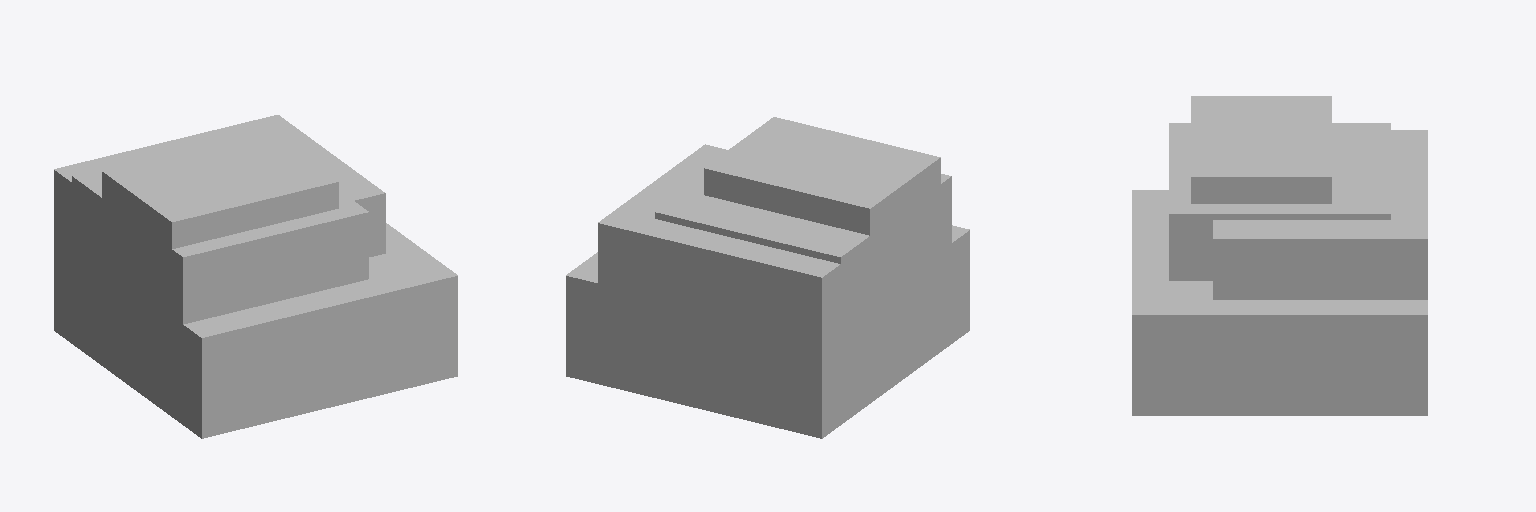
The model's file is Rock02.obj.
3 views of the same model, side by side, from view 1: azimuth 30°, elevation 25°; view 2: azimuth 150°, elevation 25°; view 3: azimuth 270°, elevation 25° (orthographic).
Visible parts, largest first — view 1: object 1; view 2: object 1; view 3: object 1.
Boxes of the visible parts, box(x1,y1,x2,y2) form: object 1: box(54, 115, 457, 438); object 1: box(566, 117, 969, 438); object 1: box(1132, 96, 1427, 415).
Size of the model in its own units: 4 by 2.9 by 4.